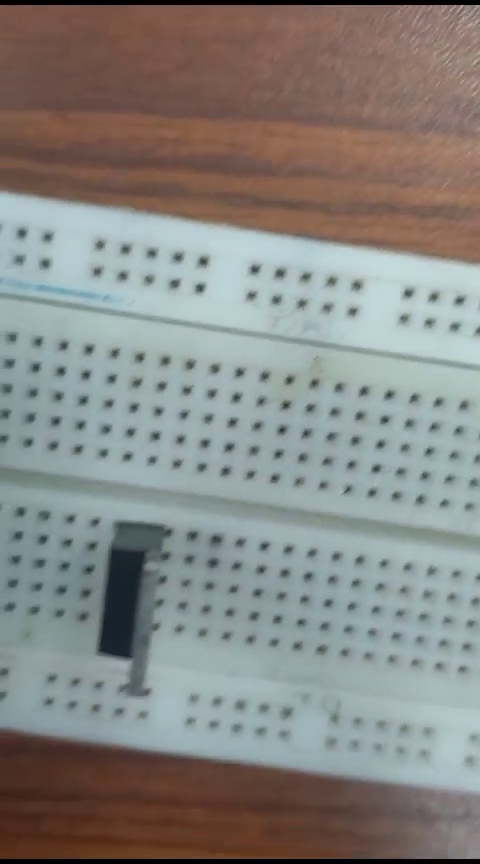voltage regulator: (85, 520, 177, 684)
